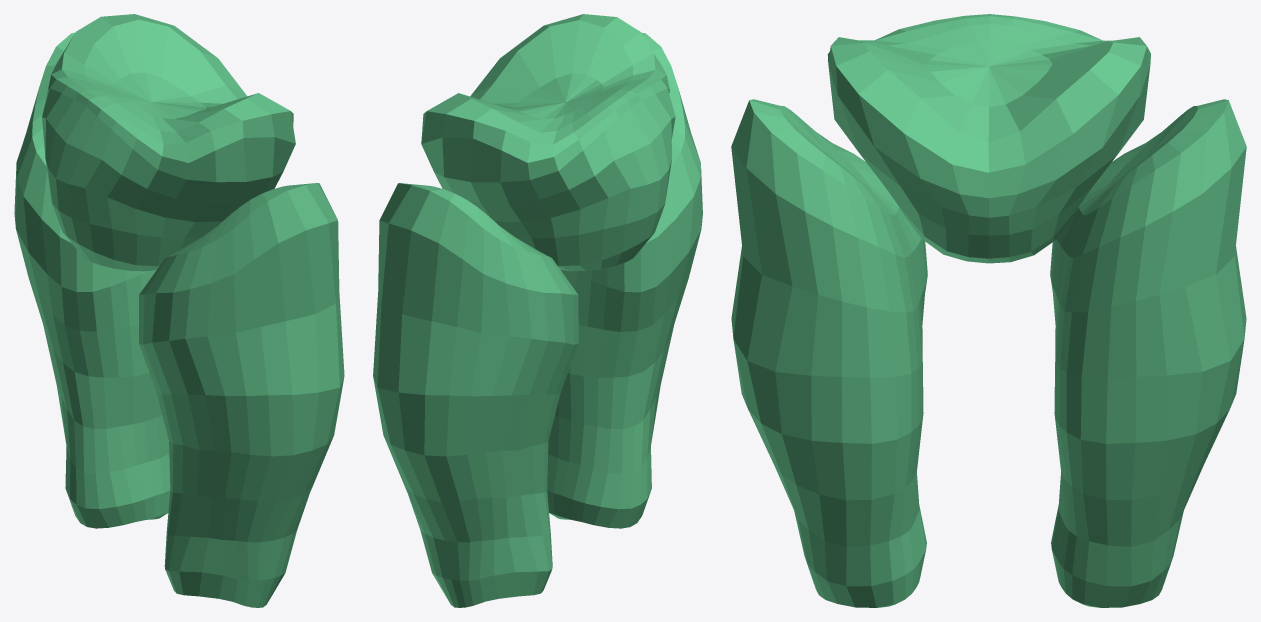
File: hips_variant-1.glb
3 renders of one model, left to right at view 1: azimuth 30°, elevation 25°; view 2: azimuth 150°, elevation 25°; view 3: azimuth 270°, elevation 25°, orthographic. The views are drawn at different scales.
Visible parts, largest first — view 1: thighs-1, hips-1; view 2: thighs-1, hips-1; view 3: thighs-1, hips-1.
Boxes of the visible parts, x1,y1,x2,y2 form: thighs-1: [14, 32, 344, 607]; hips-1: [42, 14, 295, 271]; thighs-1: [373, 33, 702, 607]; hips-1: [421, 14, 675, 271]; thighs-1: [731, 99, 1246, 607]; hips-1: [827, 14, 1150, 263].
Bounding box in the file's own units: 0.6139 × 1.36 × 1.15.
